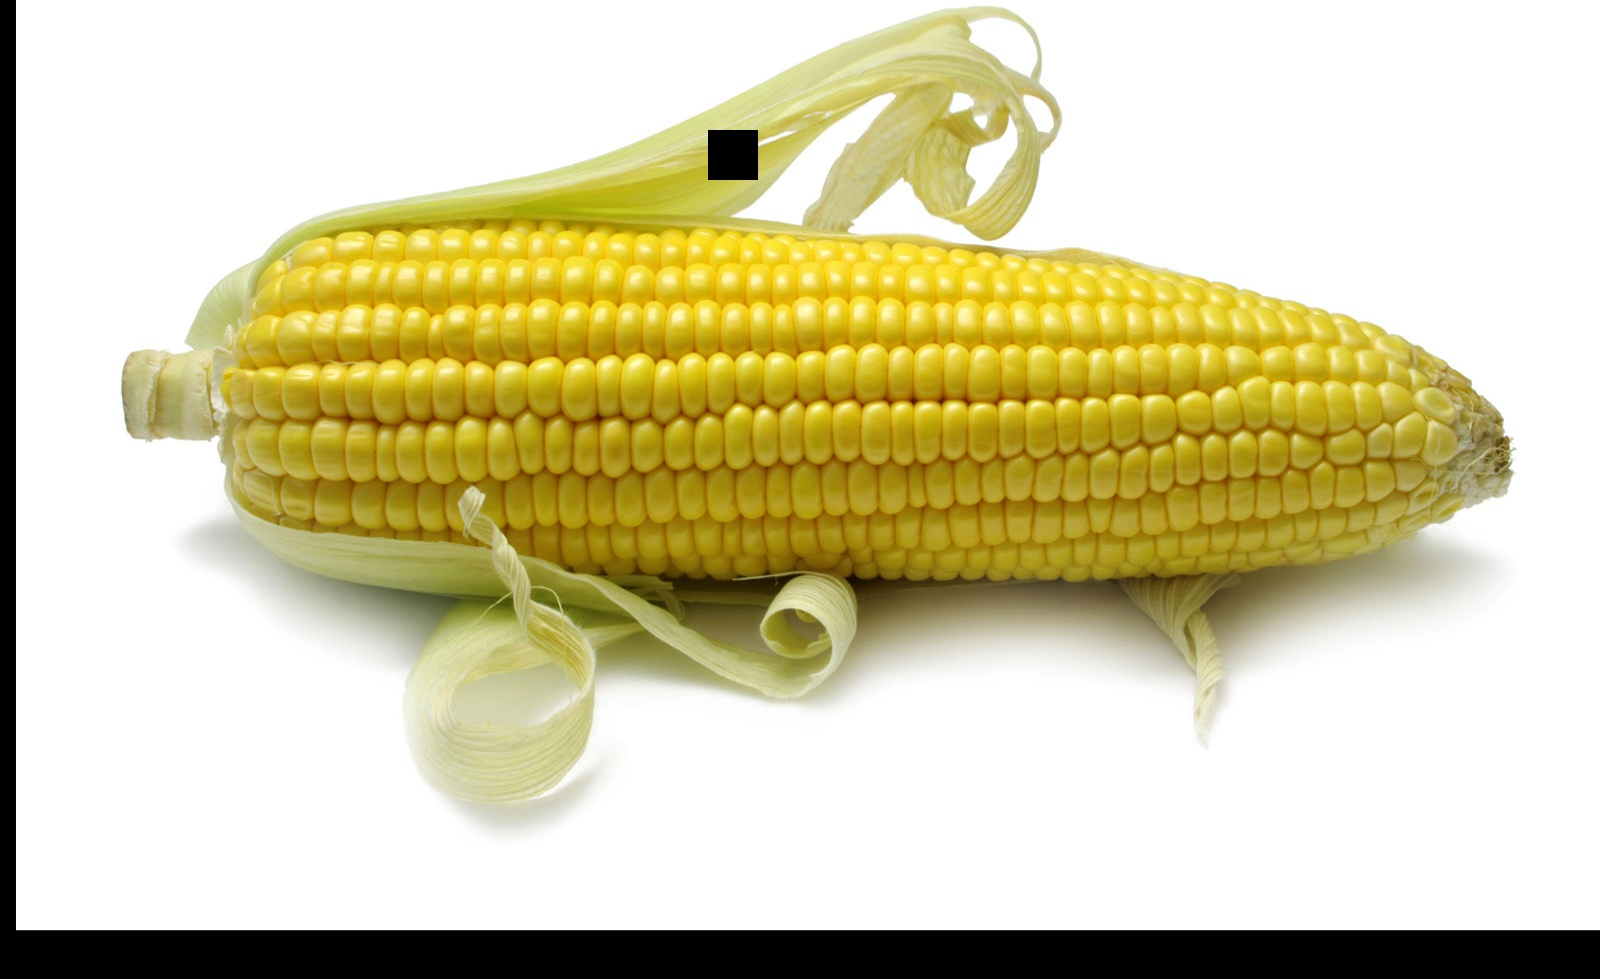corn: (118, 125, 1530, 628)
